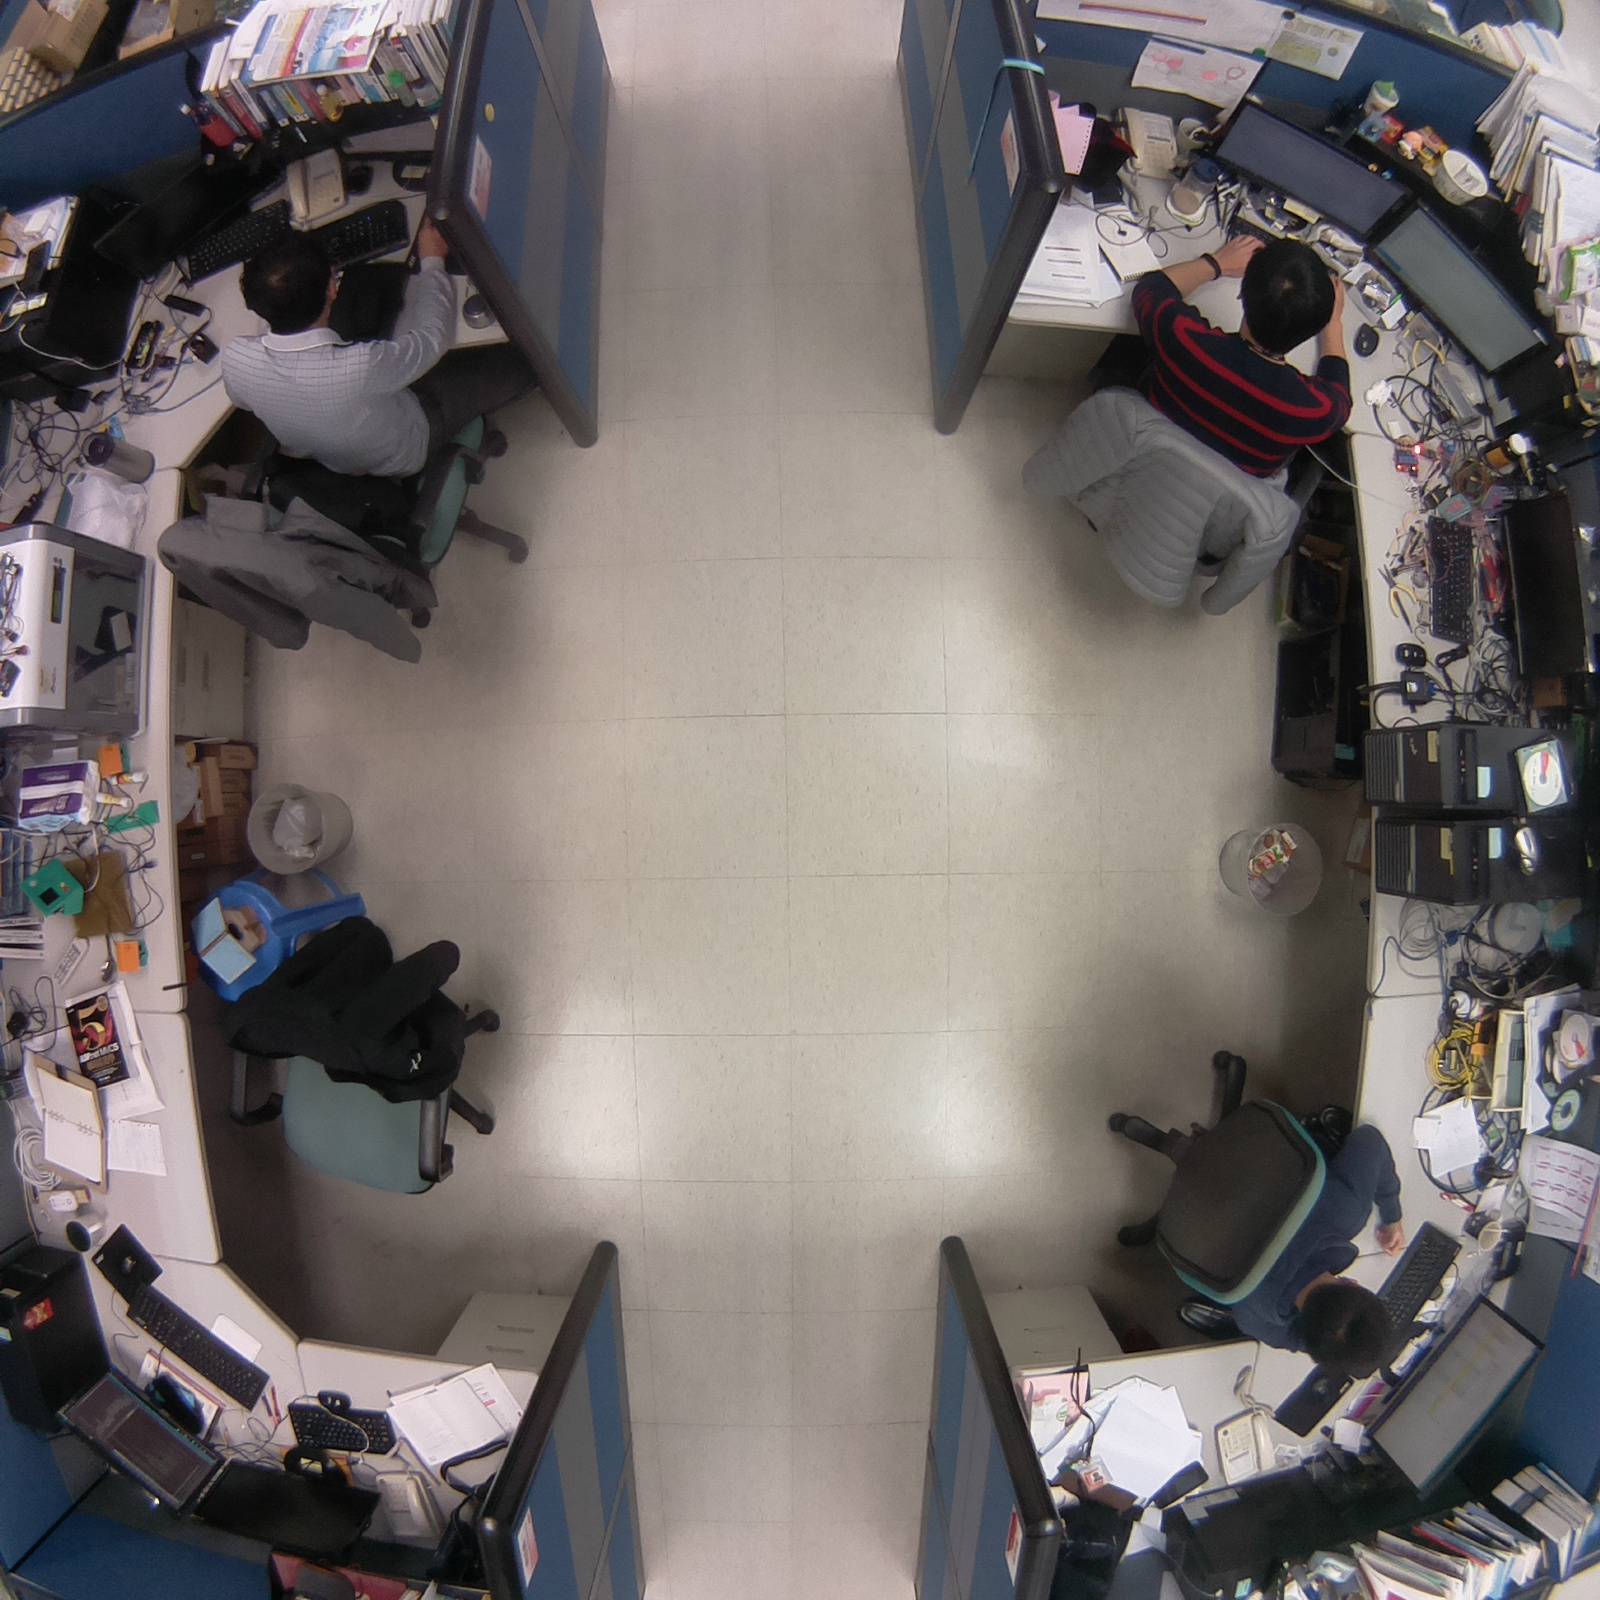chair: (199, 904, 526, 1218)
sitting: (139, 195, 552, 689), (1007, 215, 1377, 637), (1083, 1029, 1423, 1401)
